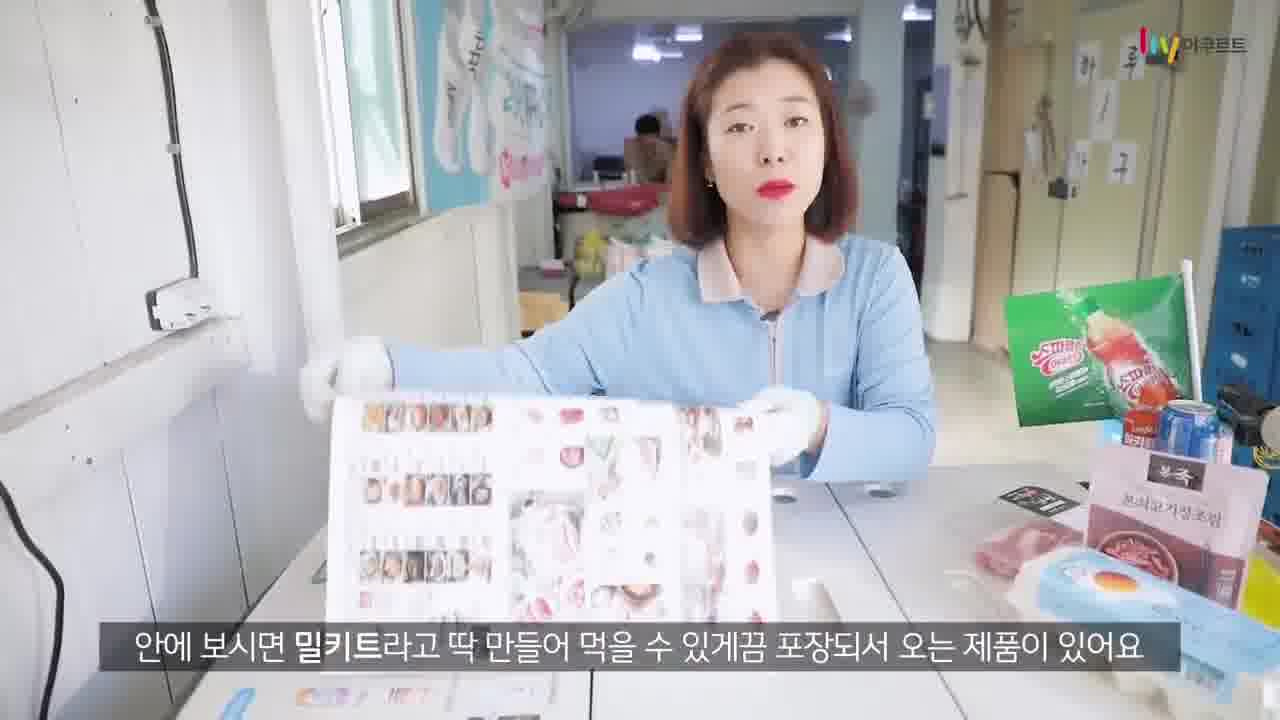Yakurut: (319, 21, 984, 547)
